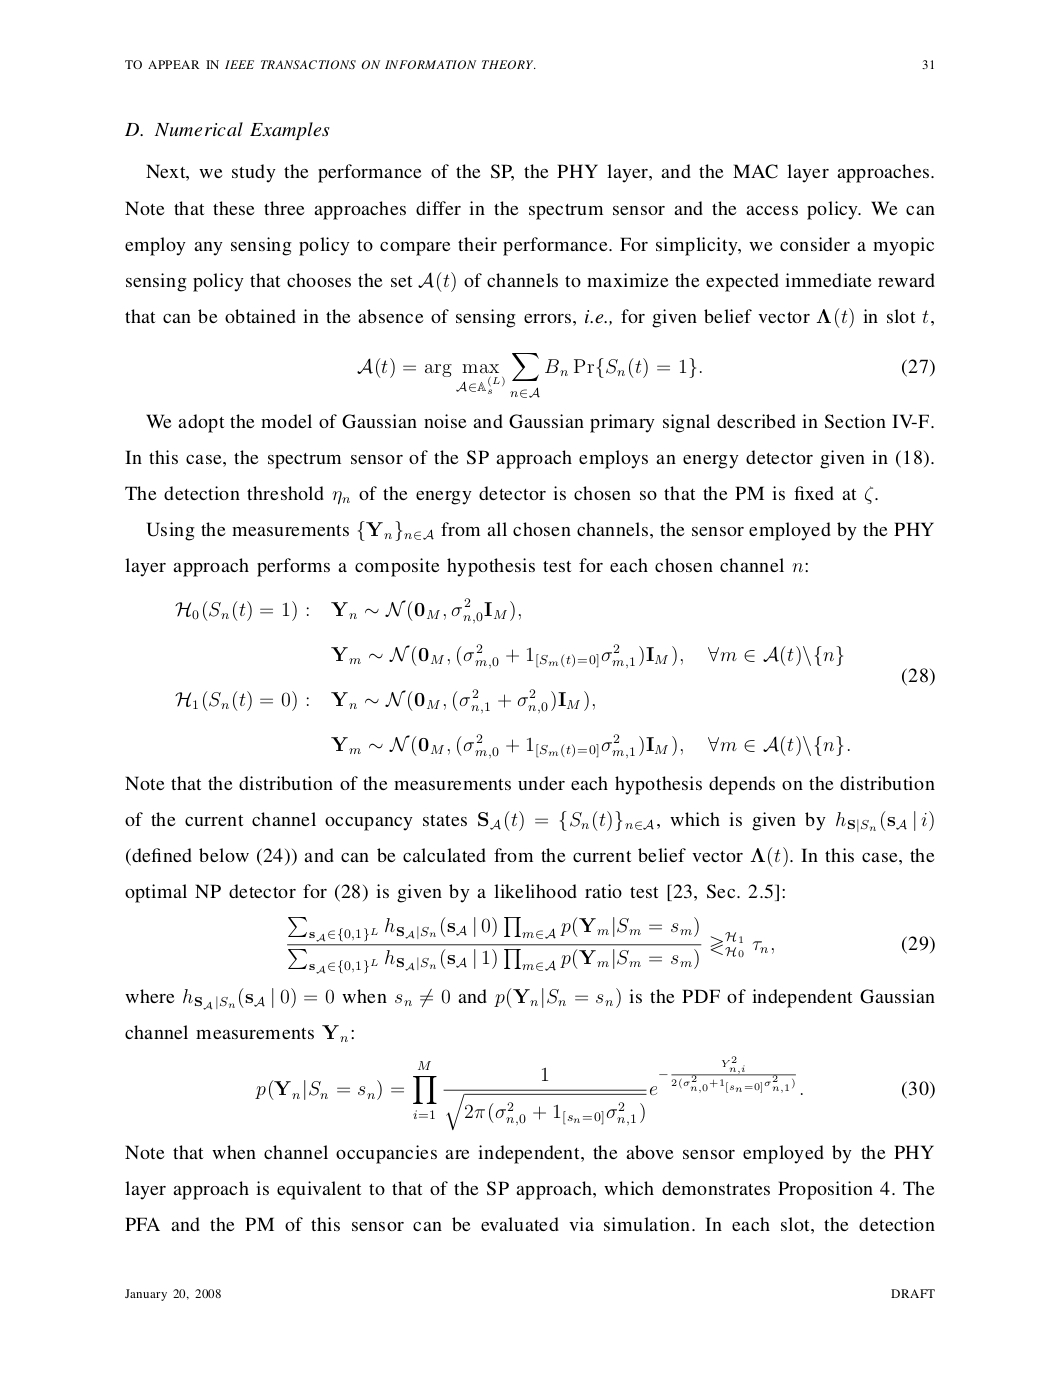formula: (255, 1055, 934, 1131), (288, 915, 934, 974), (331, 642, 934, 686), (357, 352, 934, 398), (331, 732, 849, 759), (175, 688, 594, 714), (175, 597, 520, 624)
